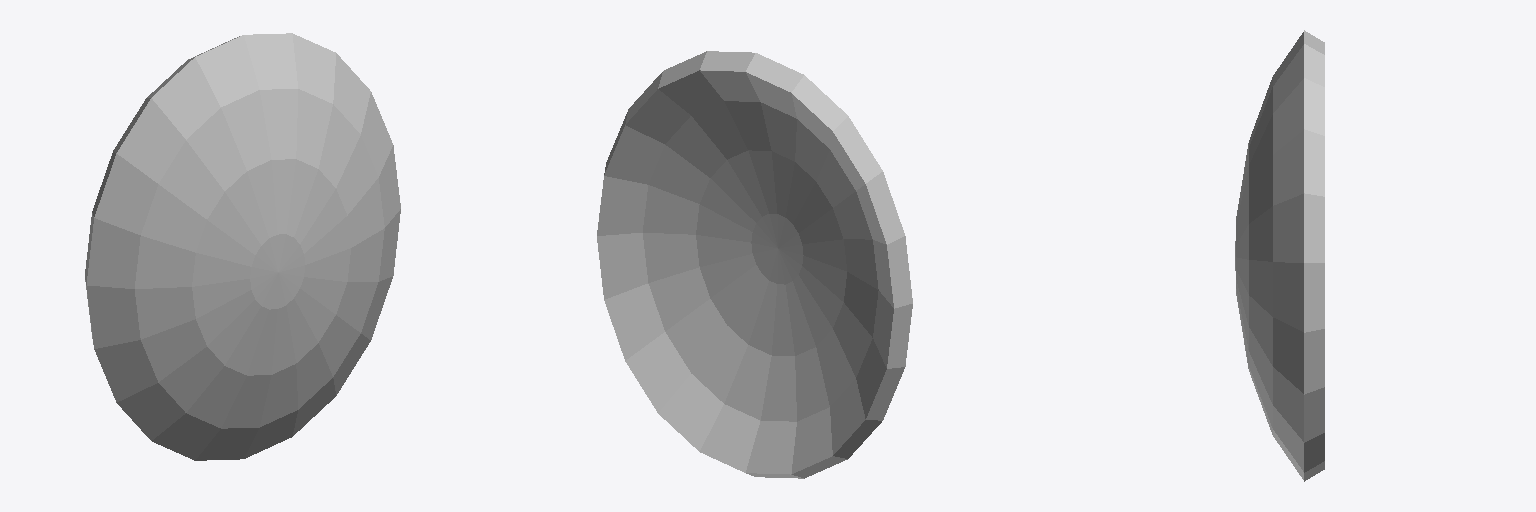
The model's file is ShieldNew.obj.
3 views of the same model, side by side, from view 1: azimuth 30°, elevation 25°; view 2: azimuth 150°, elevation 25°; view 3: azimuth 270°, elevation 25° (orthographic).
Parts seen in each view (by area): view 1: initialShadingGroup pSphere1; view 2: initialShadingGroup pSphere1; view 3: initialShadingGroup pSphere1.
Boxes of the visible parts, x1=… form: initialShadingGroup pSphere1: x1=85, y1=33, x2=400, y2=460; initialShadingGroup pSphere1: x1=597, y1=51, x2=912, y2=478; initialShadingGroup pSphere1: x1=1235, y1=30, x2=1324, y2=481.
Bounding box in the file's own units: 13.96 × 17.99 × 3.46.